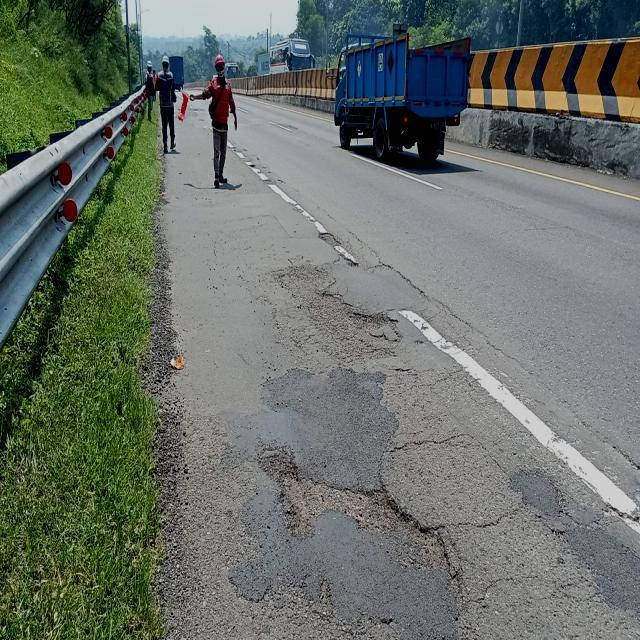Buraco: (253, 442, 455, 573), (270, 271, 403, 360), (332, 253, 361, 269), (317, 231, 343, 248), (247, 164, 259, 170)
